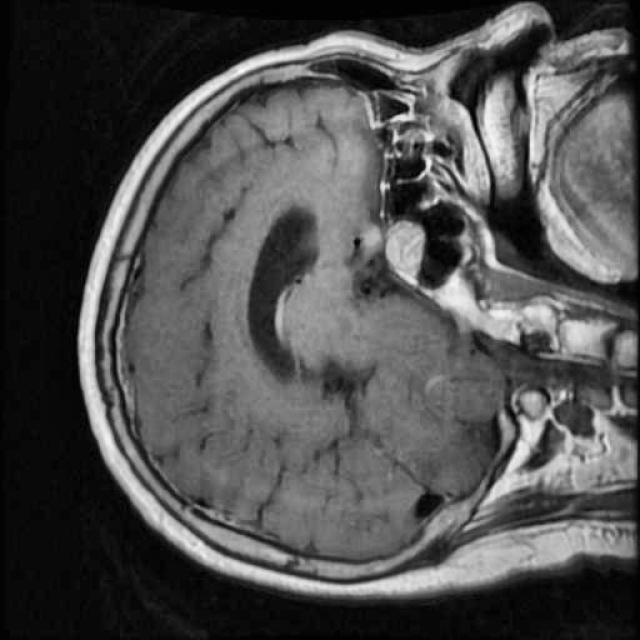Tumor: (371, 203, 431, 294)
